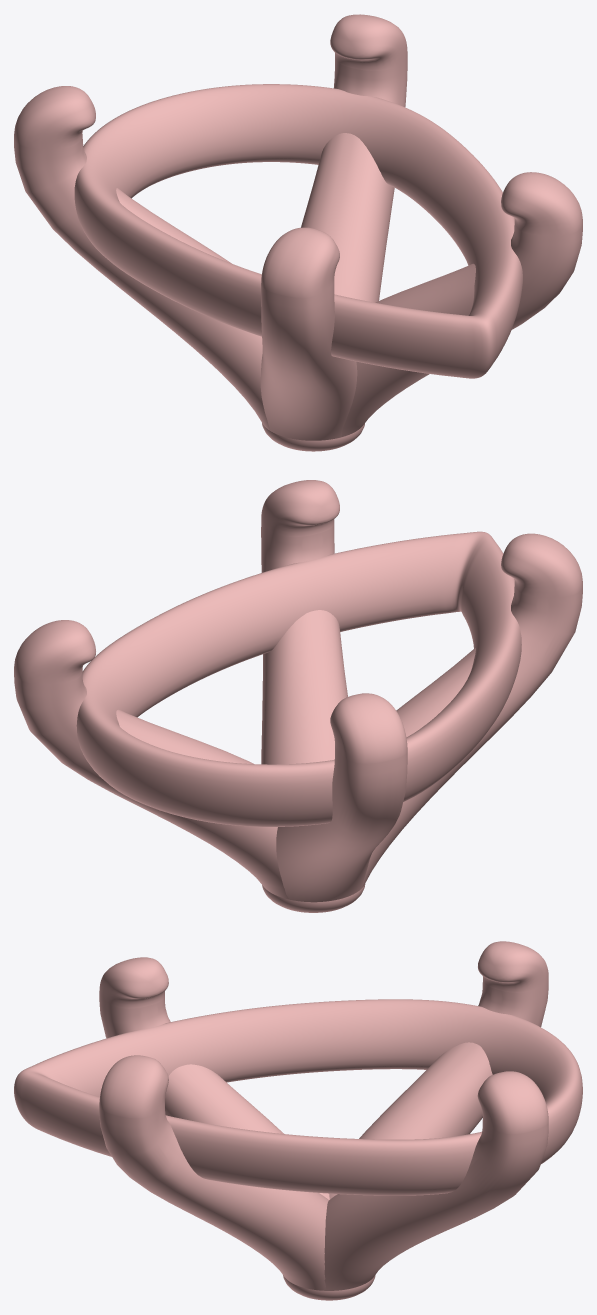
The model's file is PEAR.glb.
The picture shows the model from 3 angles, top to bottom: view 1: azimuth 30°, elevation 25°; view 2: azimuth 150°, elevation 25°; view 3: azimuth 270°, elevation 25°; orthographic projection. The views are drawn at different scales.
Parts seen in each view (by area): view 1: pear; view 2: pear; view 3: pear.
Part boxes in pixels (x1=…): pear: x1=14, y1=14, x2=582, y2=451; pear: x1=14, y1=480, x2=582, y2=912; pear: x1=14, y1=941, x2=582, y2=1300.
Bounding box in the file's own units: 5.57 × 4.3 × 7.91.
